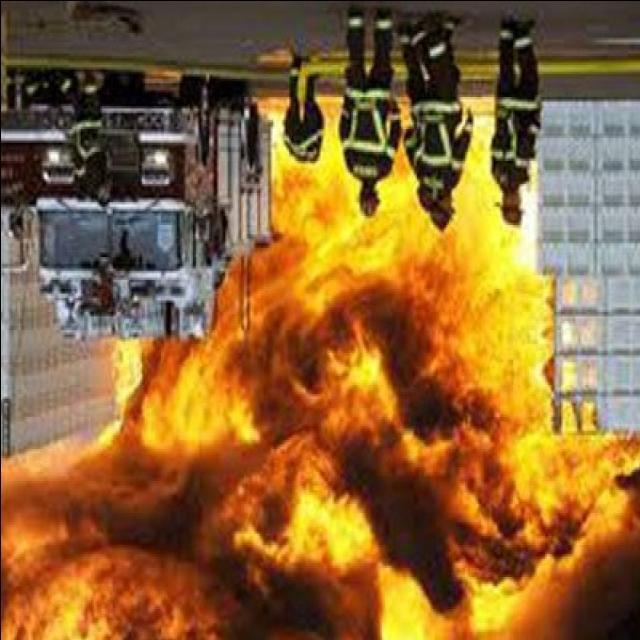Fire: (5, 100, 631, 634)
